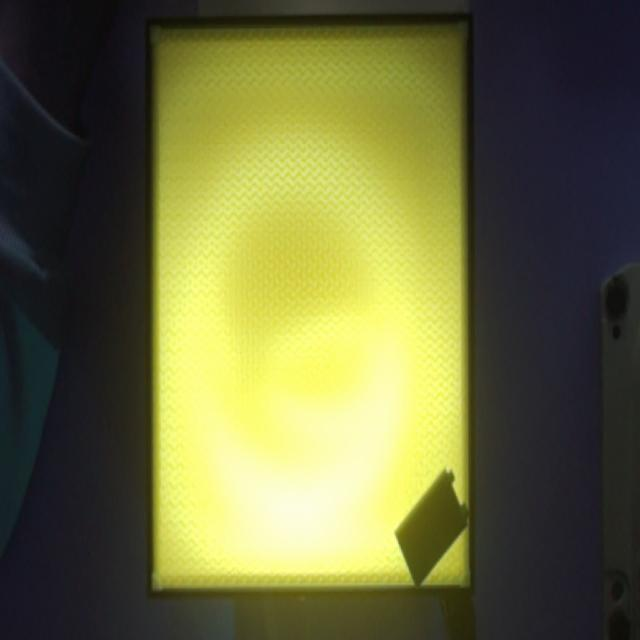bateria: (393, 468, 468, 585)
mesa: (146, 13, 474, 600)
